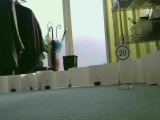speed_20: (115, 45, 130, 60)
